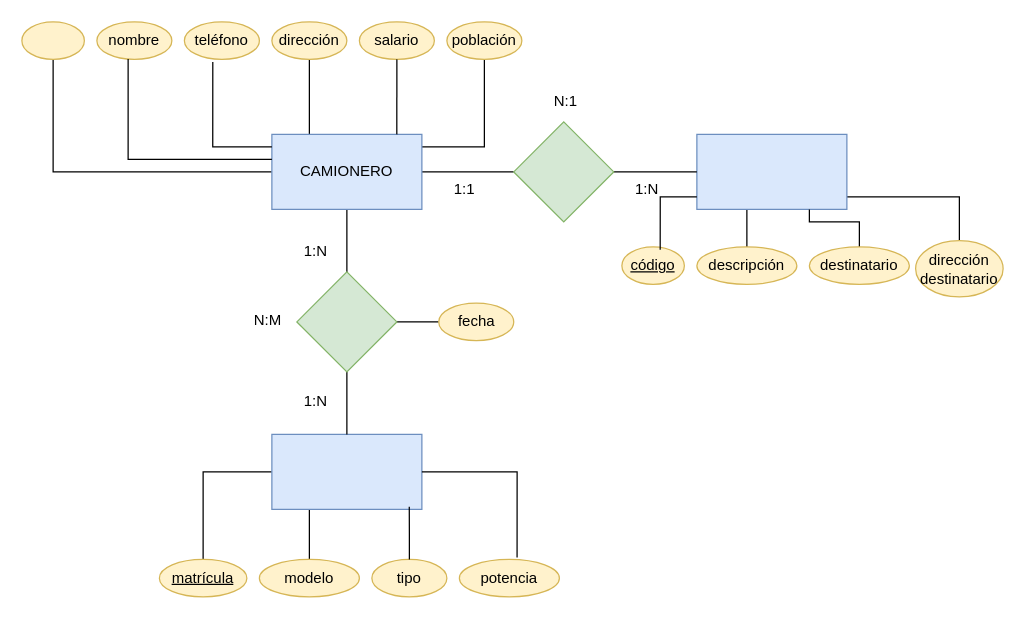
The diagram is 1025 pixels wide and 619 high, and some of its shapes have lost their labels. The box of each missing label's shape, as (x1, y1, x2, y2) in pixels:
CAMIÓN: (271, 433, 422, 509)
conduce: (296, 271, 397, 372)
distribuye: (512, 121, 614, 222)
DNI: (21, 21, 84, 59)
PAQUETES: (696, 133, 847, 209)
